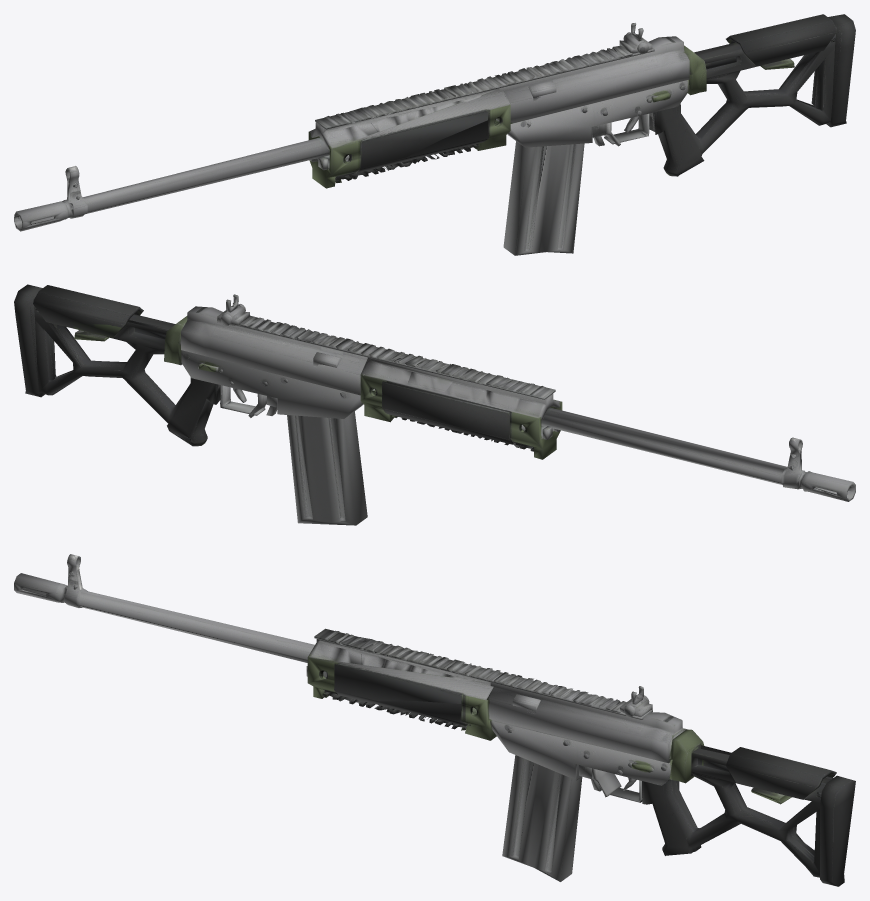
File: ar_bastion.glb
3 views of the same model, one above another, from view 1: azimuth 30°, elevation 25°; view 2: azimuth 150°, elevation 25°; view 3: azimuth 330°, elevation 25° (orthographic).
Bounding box in the file's own units: 0.9565 × 0.2266 × 0.0552.
Materials: 1 (1 with a texture image).
